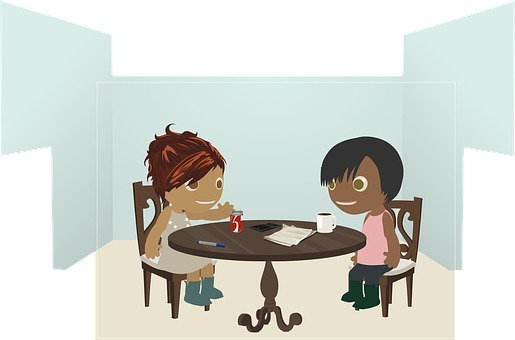chair: (130, 178, 215, 320), (353, 195, 427, 317)
diningtable: (164, 217, 368, 334)
person: (142, 128, 237, 309), (316, 134, 405, 309)
